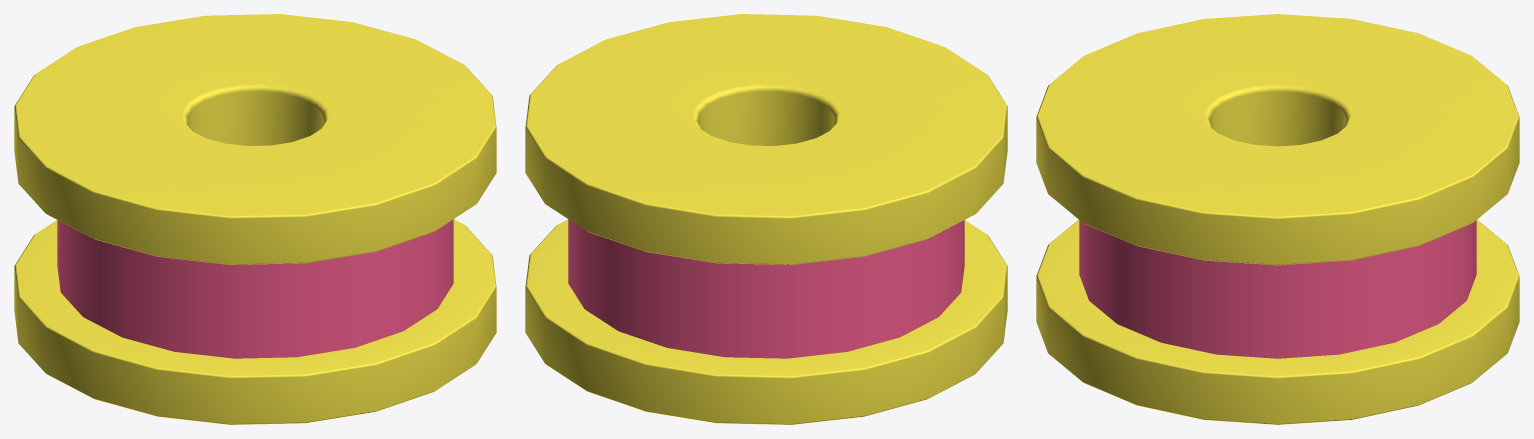
Rendered from Public_19_Skein_of_thread_12.glb.
3 views of the same model, side by side, from view 1: azimuth 30°, elevation 25°; view 2: azimuth 150°, elevation 25°; view 3: azimuth 270°, elevation 25° (orthographic).
Parts seen in each view (by area): view 1: Public_19_Skein_of_thread_12; view 2: Public_19_Skein_of_thread_12; view 3: Public_19_Skein_of_thread_12.
Part boxes in pixels (x1,y1,x2,y2): Public_19_Skein_of_thread_12: (14, 14, 496, 424); Public_19_Skein_of_thread_12: (525, 14, 1007, 424); Public_19_Skein_of_thread_12: (1036, 14, 1519, 424).
Size of the model in its own units: 0.4157 by 0.1978 by 0.4157.
1 material, 1 textured.
